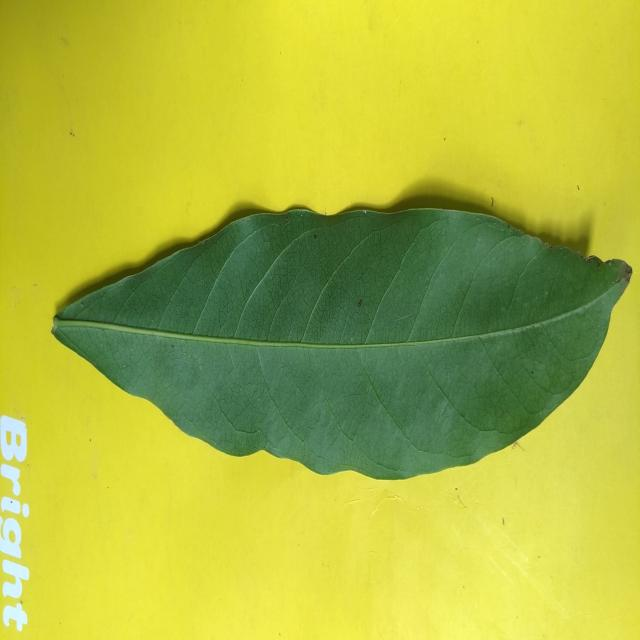seethaashoka: (52, 209, 631, 480)
